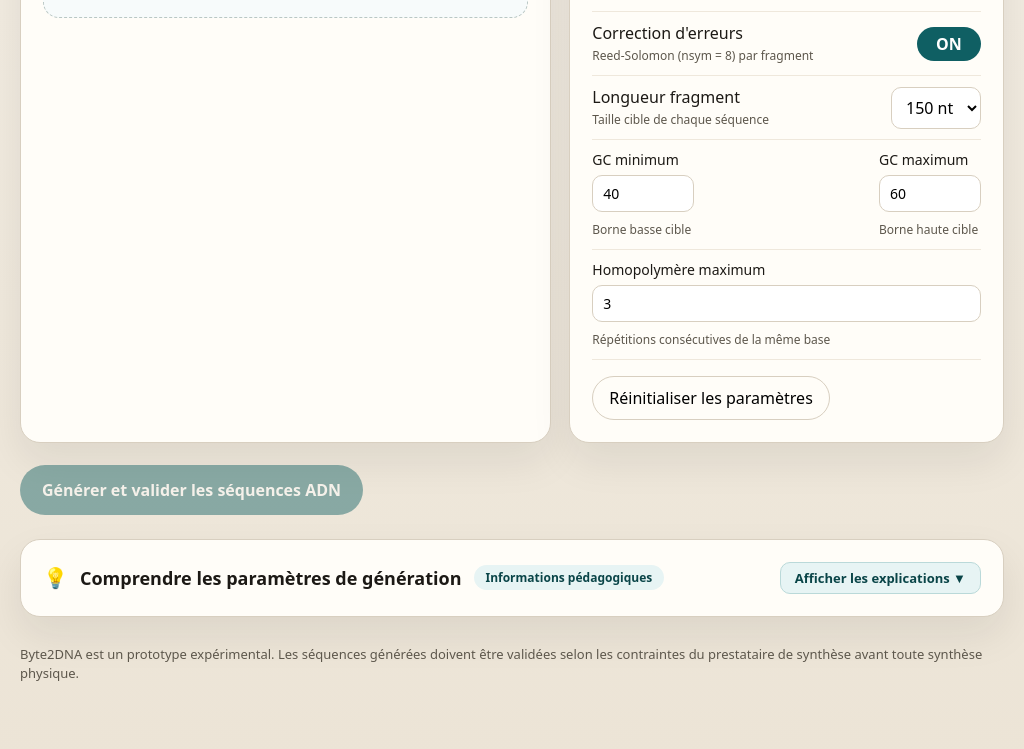
Byte2DNA page › permet d'afficher et de masquer les informations pédagogiques
(page scrolled)
Expected: the text "1. Compression — ON" is not shown
Click the button "Afficher les explications ▼". click: (880, 578)
box: [780,562,981,594]
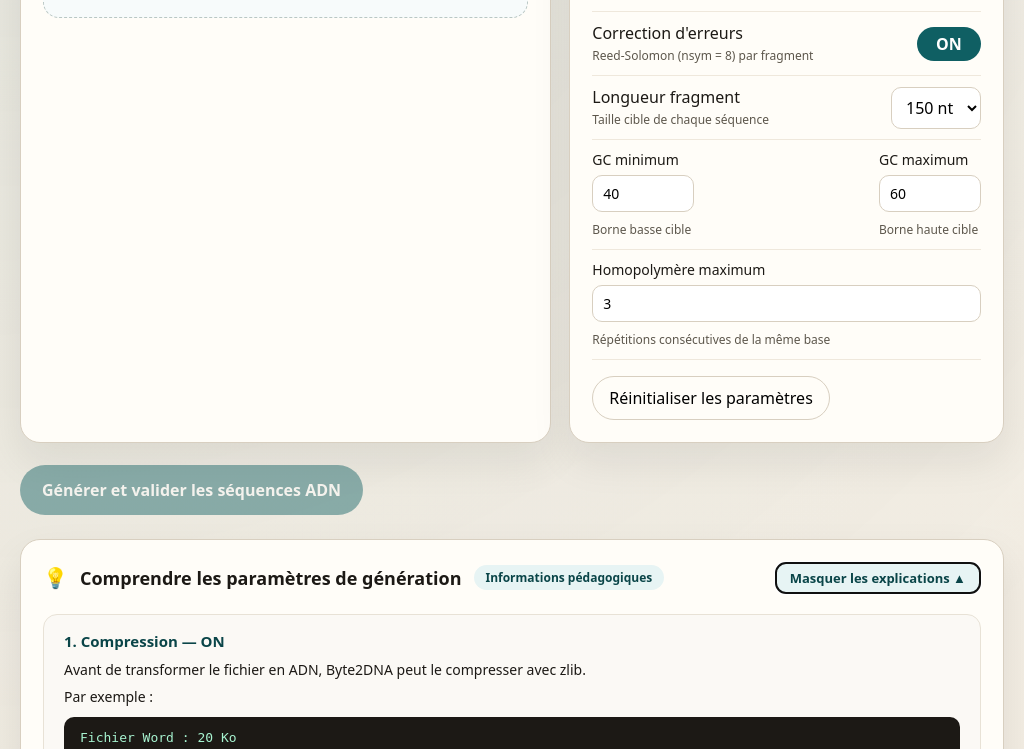
Now the heading "1. Compression — ON" is shown, box [64,631,225,651]
Click the button "Masquer les explications ▲". click: (878, 578)
box: [775,562,981,594]
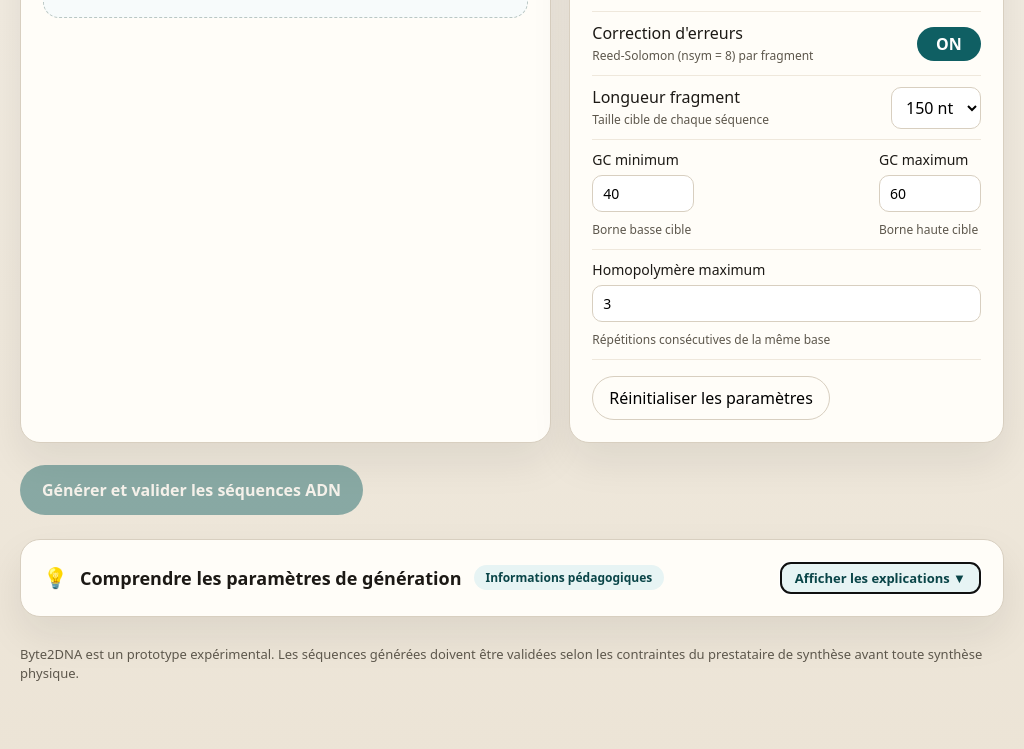
Now the heading "1. Compression — ON" is gone
